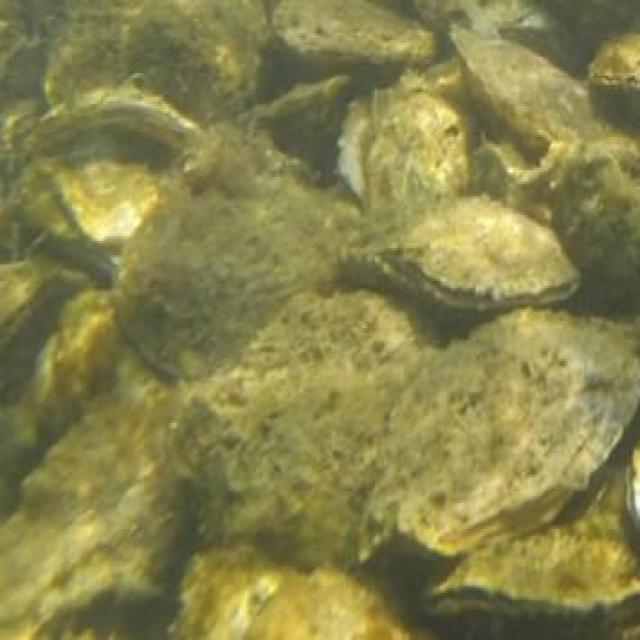Oyster- Indeterminate: (175, 289, 457, 560), (0, 354, 214, 633), (113, 148, 372, 375), (471, 143, 640, 326), (44, 0, 271, 118), (164, 547, 452, 640), (453, 31, 640, 156), (34, 288, 138, 437), (221, 72, 349, 175), (41, 132, 161, 237)
Oyster-Closed: (361, 310, 640, 557), (416, 456, 640, 640), (353, 192, 579, 309), (277, 0, 438, 63), (36, 88, 201, 147), (0, 249, 58, 352), (589, 29, 640, 99)
Oyster-Open: (365, 73, 473, 211)
